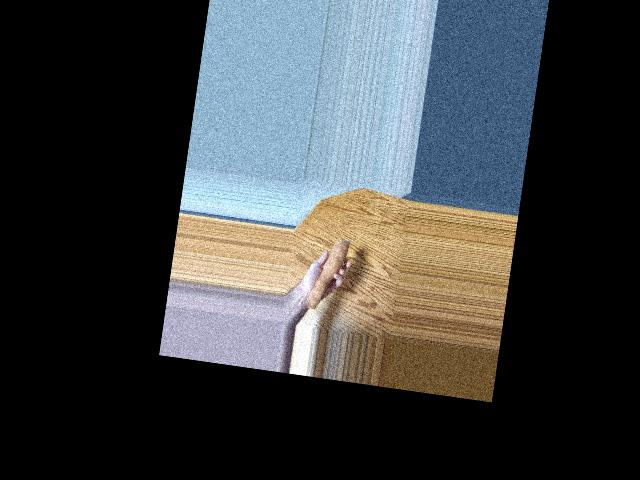sweet_potato: (305, 235, 352, 311)
